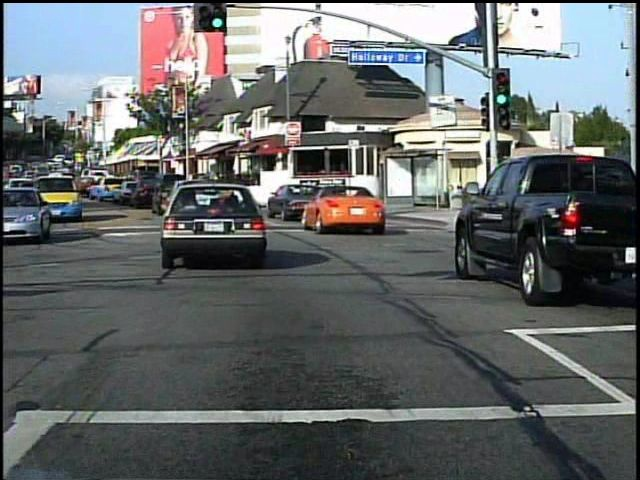person: (579, 187, 602, 250)
